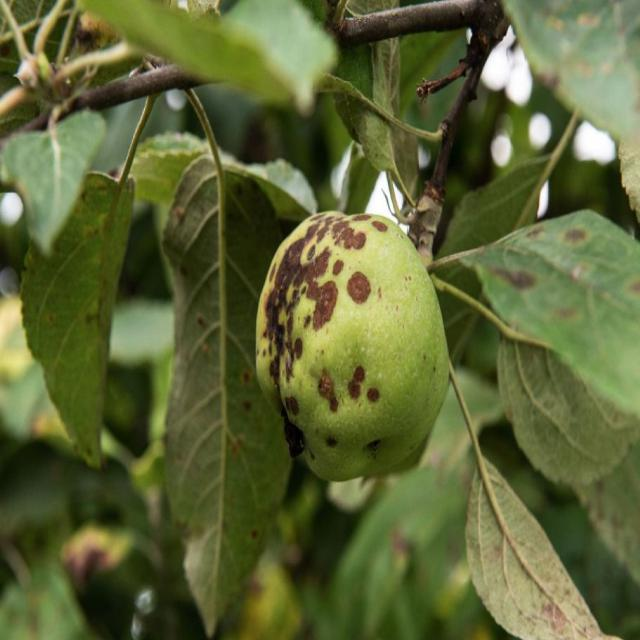Rotten Apple: (259, 170, 461, 496)
